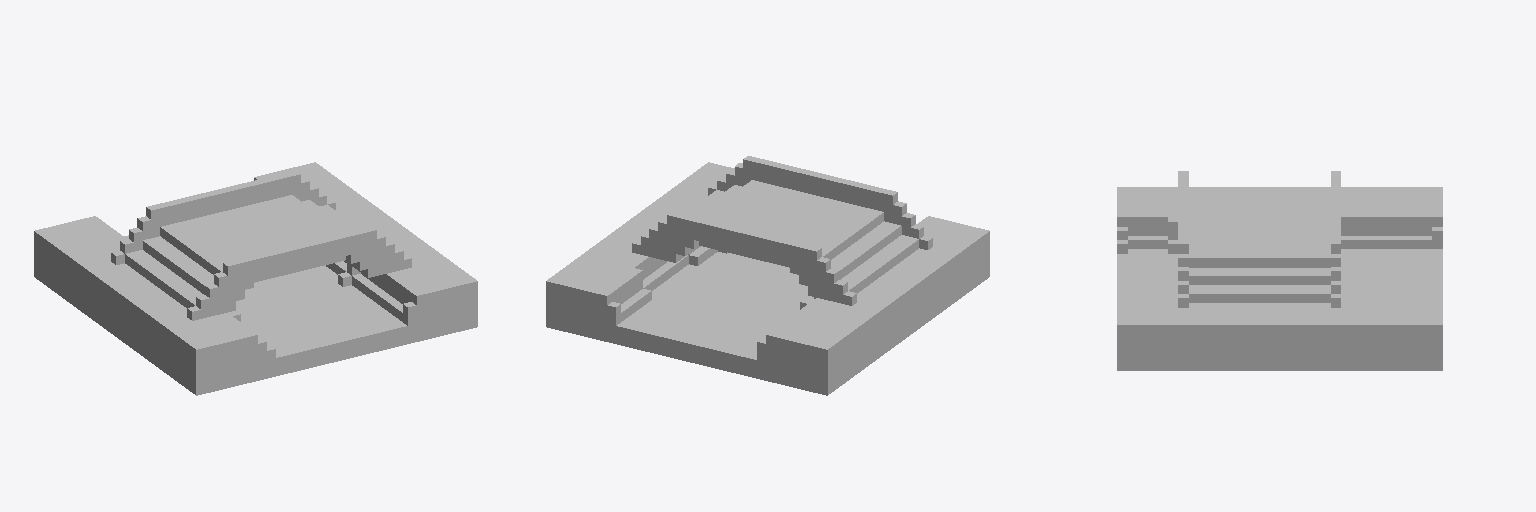
File: Plaines Map-31.obj
3 views of the same model, side by side, from view 1: azimuth 30°, elevation 25°; view 2: azimuth 150°, elevation 25°; view 3: azimuth 270°, elevation 25° (orthographic).
Visible parts, largest first — view 1: object 1; view 2: object 1; view 3: object 1.
Boxes of the visible parts, <box> form: object 1: <box>34,162,477,395</box>; object 1: <box>546,156,989,395</box>; object 1: <box>1117,171,1442,370</box>.
Size of the model in its own units: 3.2 by 1 by 3.2.